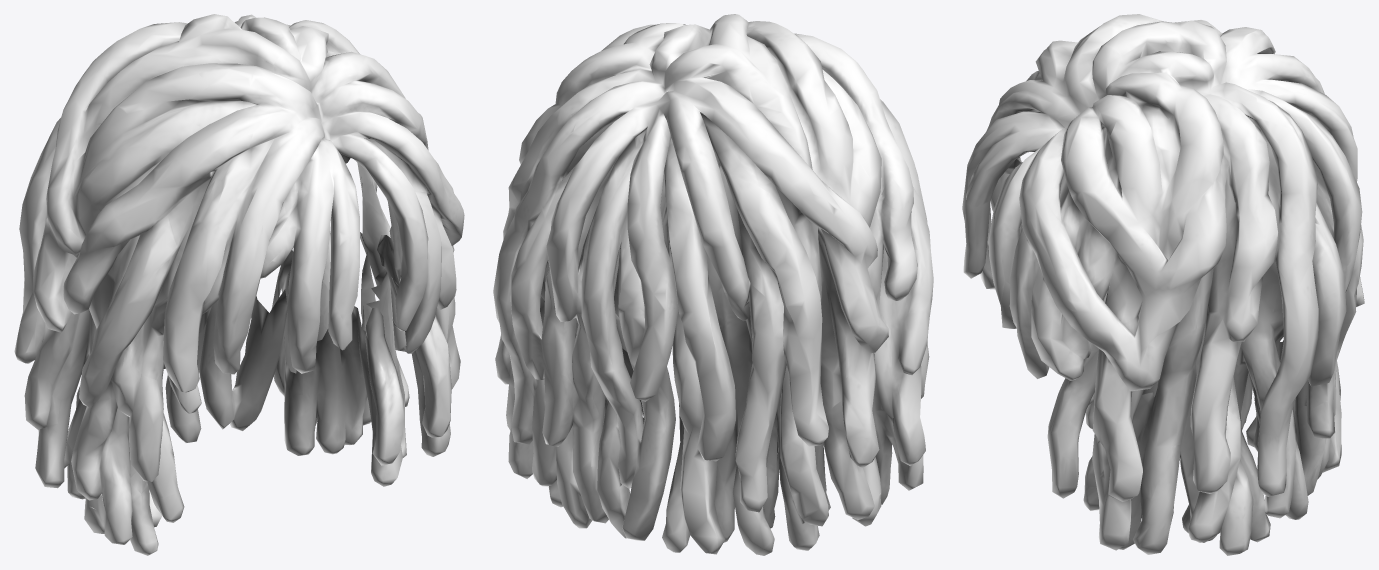
Rendered from hair-locs.glb.
3 renders of one model, left to right at view 1: azimuth 30°, elevation 25°; view 2: azimuth 150°, elevation 25°; view 3: azimuth 270°, elevation 25°, orthographic. The views are drawn at different scales.
Parts seen in each view (by area): view 1: tripo_node_601a2254-cf67-4a31-a3ef-86d27e8cfccc; view 2: tripo_node_601a2254-cf67-4a31-a3ef-86d27e8cfccc; view 3: tripo_node_601a2254-cf67-4a31-a3ef-86d27e8cfccc.
Boxes of the visible parts, bbox=[...] form: tripo_node_601a2254-cf67-4a31-a3ef-86d27e8cfccc: bbox=[14, 14, 464, 555]; tripo_node_601a2254-cf67-4a31-a3ef-86d27e8cfccc: bbox=[493, 14, 933, 555]; tripo_node_601a2254-cf67-4a31-a3ef-86d27e8cfccc: bbox=[962, 14, 1364, 555].
Bounding box in the file's own units: 0.2496 × 0.2965 × 0.2336.
Materials: 1 (1 with a texture image).
